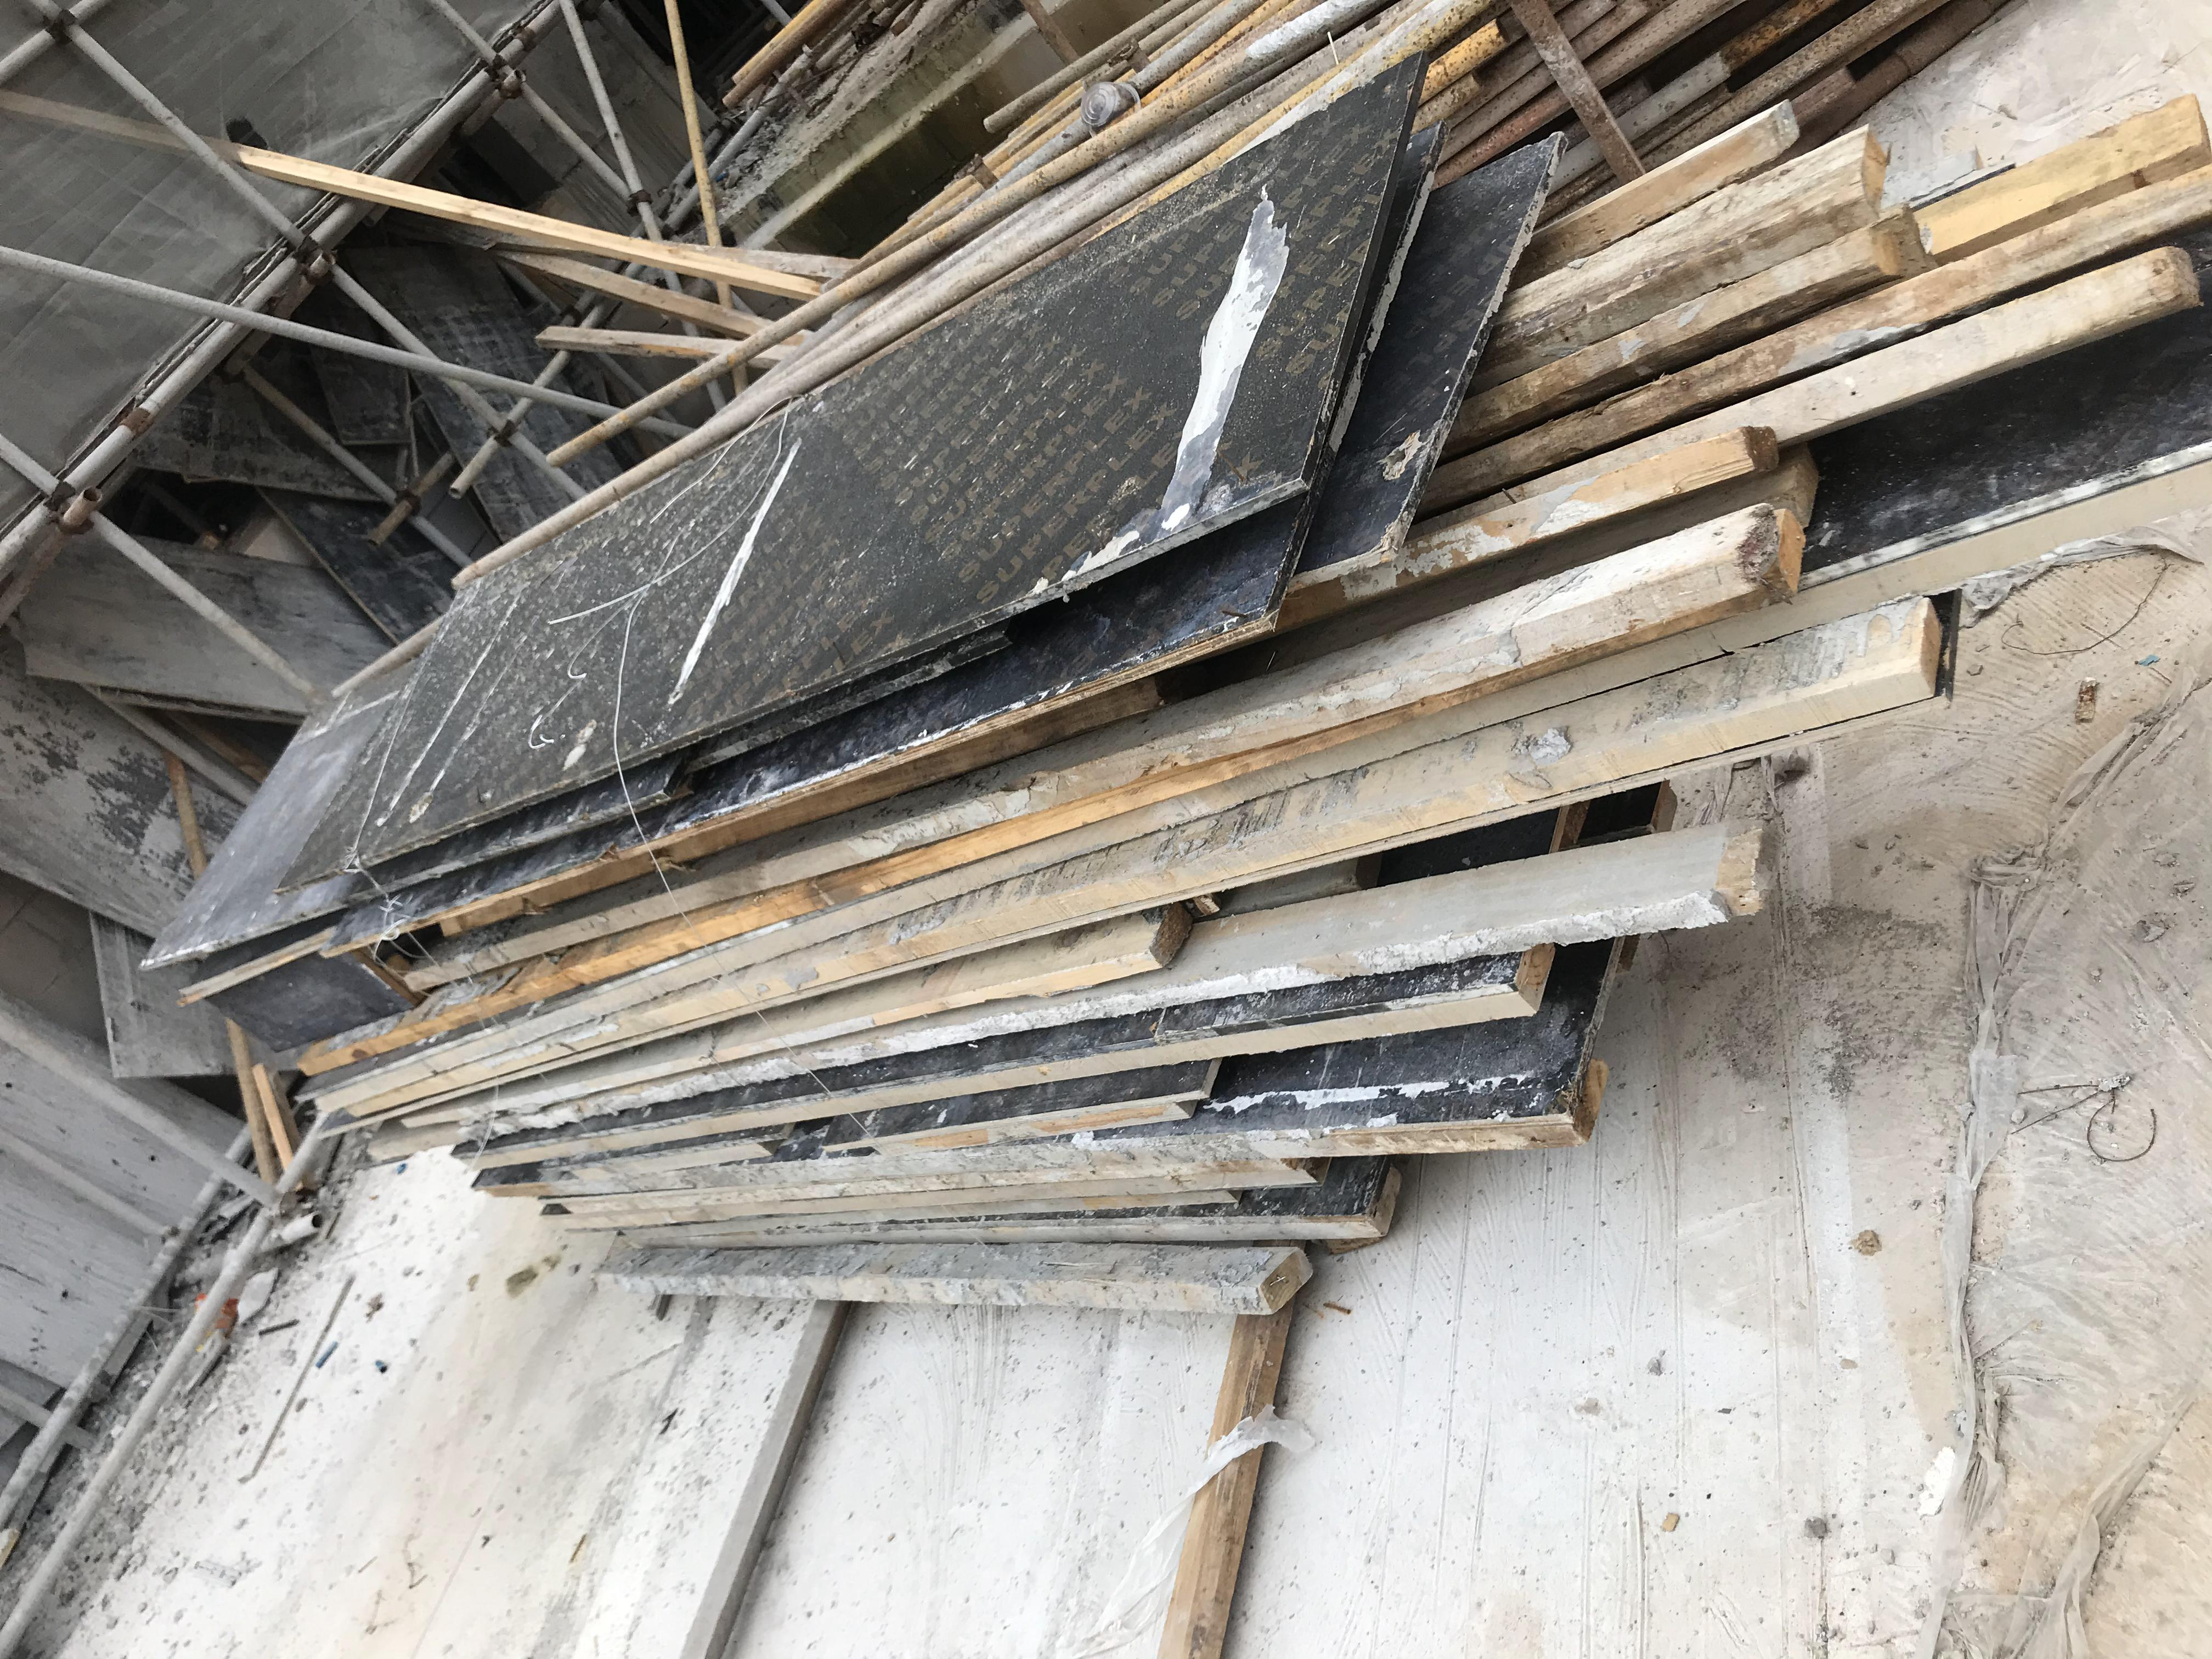wood: (225, 106, 2212, 1304)
